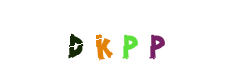D: (62, 0, 142, 80)
K: (73, 0, 153, 80)
P: (80, 0, 160, 80), (87, 0, 167, 80)
